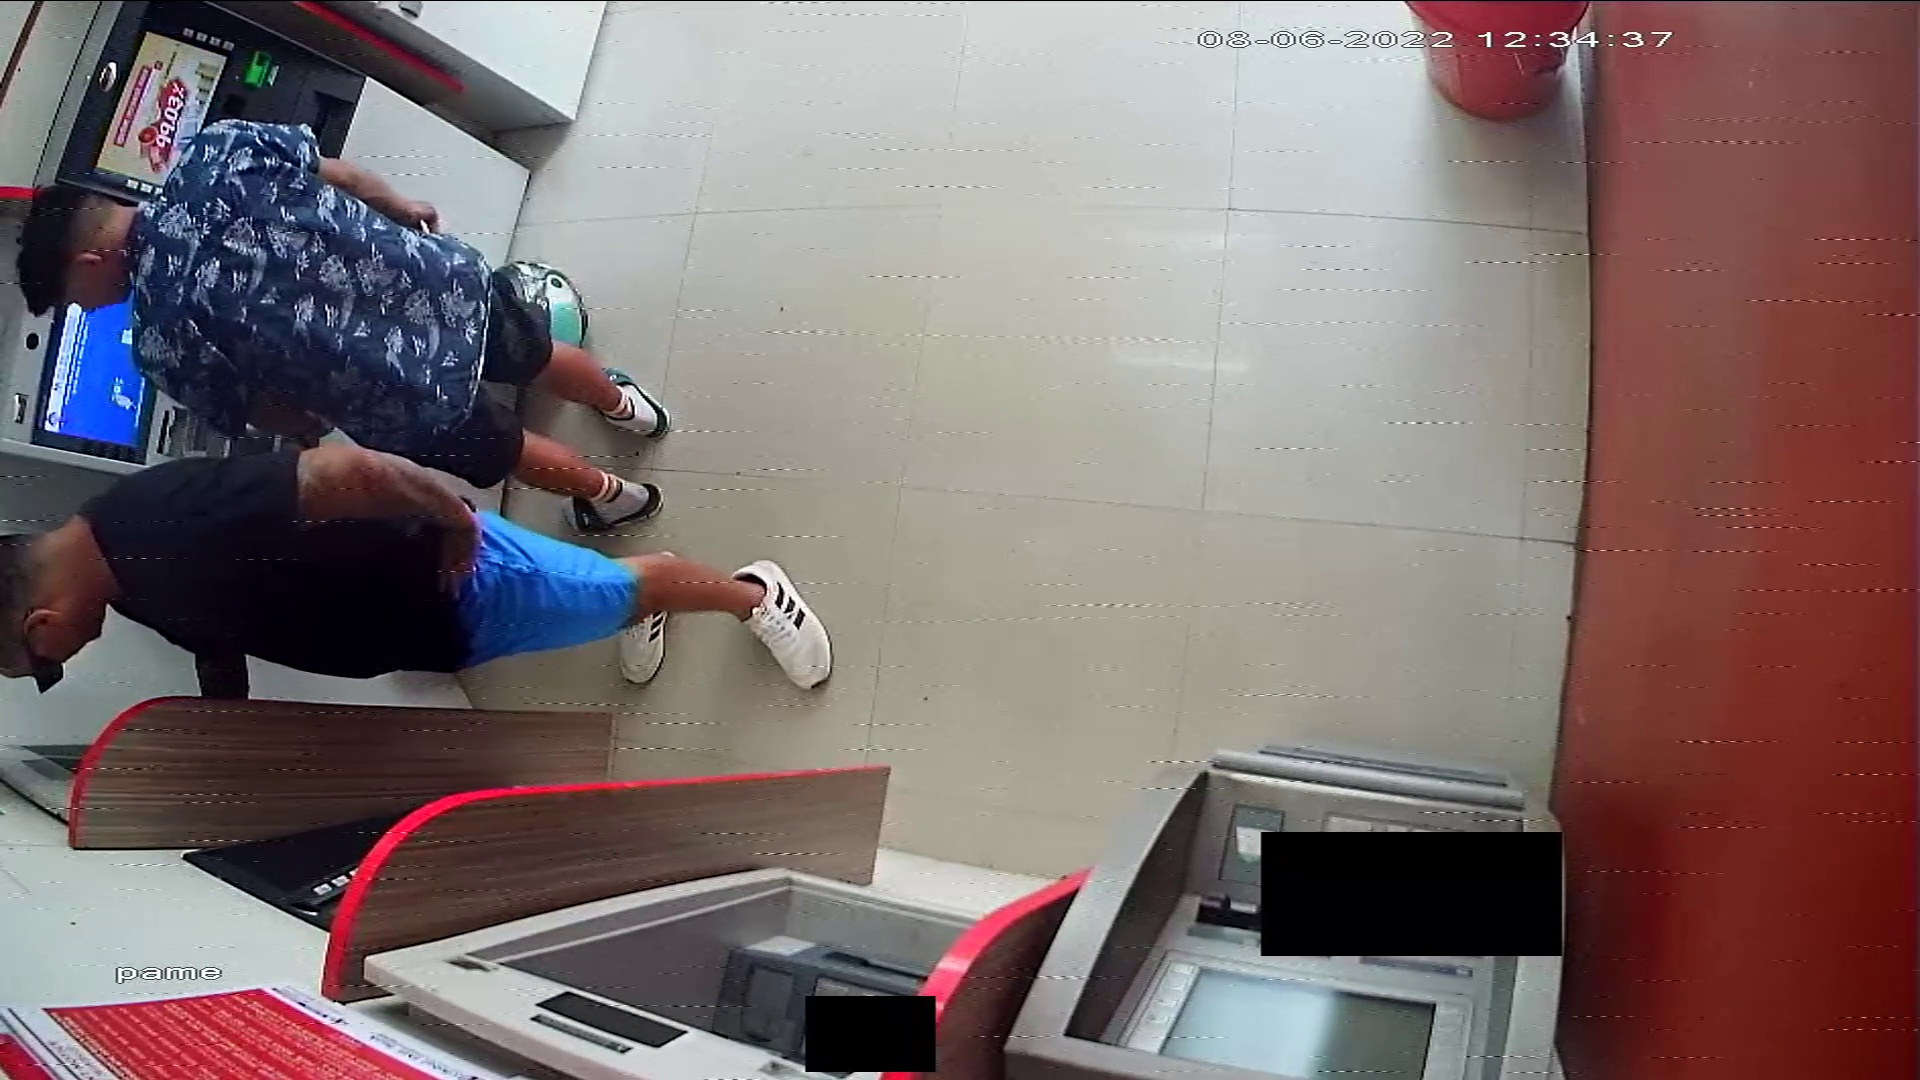helmet: (493, 256, 592, 353)
person: (15, 122, 661, 532), (1, 446, 833, 698)
